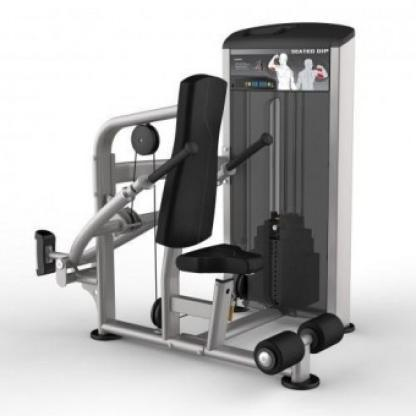seated dip machine: (21, 10, 364, 397)
